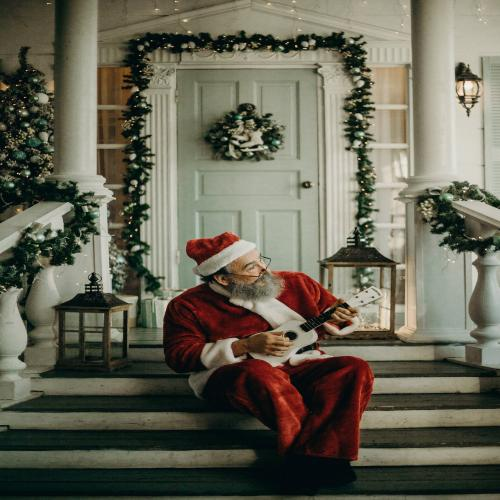Santa: (161, 232, 377, 487)
